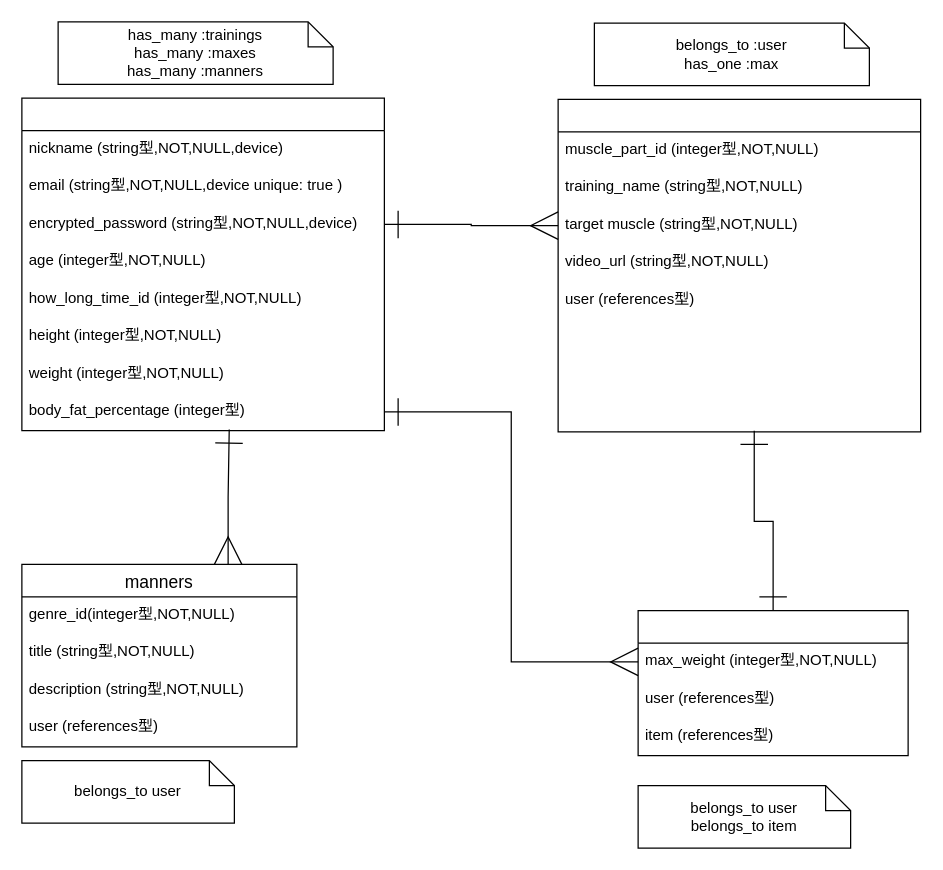
The diagram is 943 pixels wide and 870 high, and some of its shapes have lost their labels. The box of each missing label's shape, as (x1, y1, x2, y2) in pixels:
maxes: (637, 609, 908, 756)
trainings: (557, 98, 921, 432)
users: (21, 97, 384, 431)
